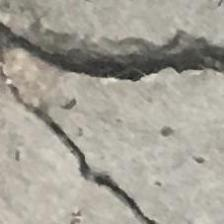Crack: (0, 2, 224, 192)
